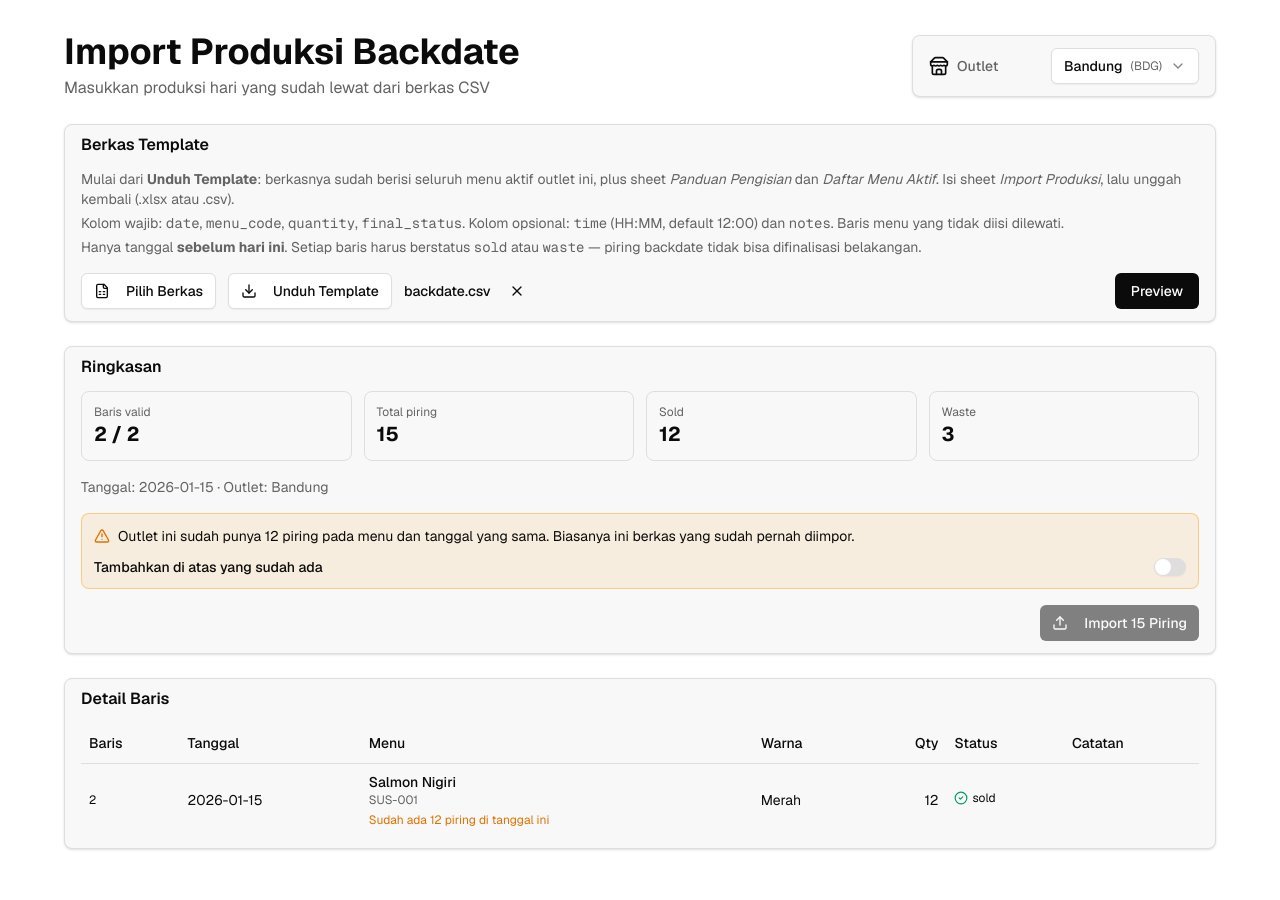
ProductionImportAdmin › holds a colliding file until the operator allows duplicates
Earlier steps of the test are not shown.
Check: the button "Import 15 Piring" is disabled, box [1040,605,1199,641]
Check: the text "sudah punya 12 piring" is shown, box [118,526,854,546]
Click the switch: (1170, 567) [1154,558,1186,576]
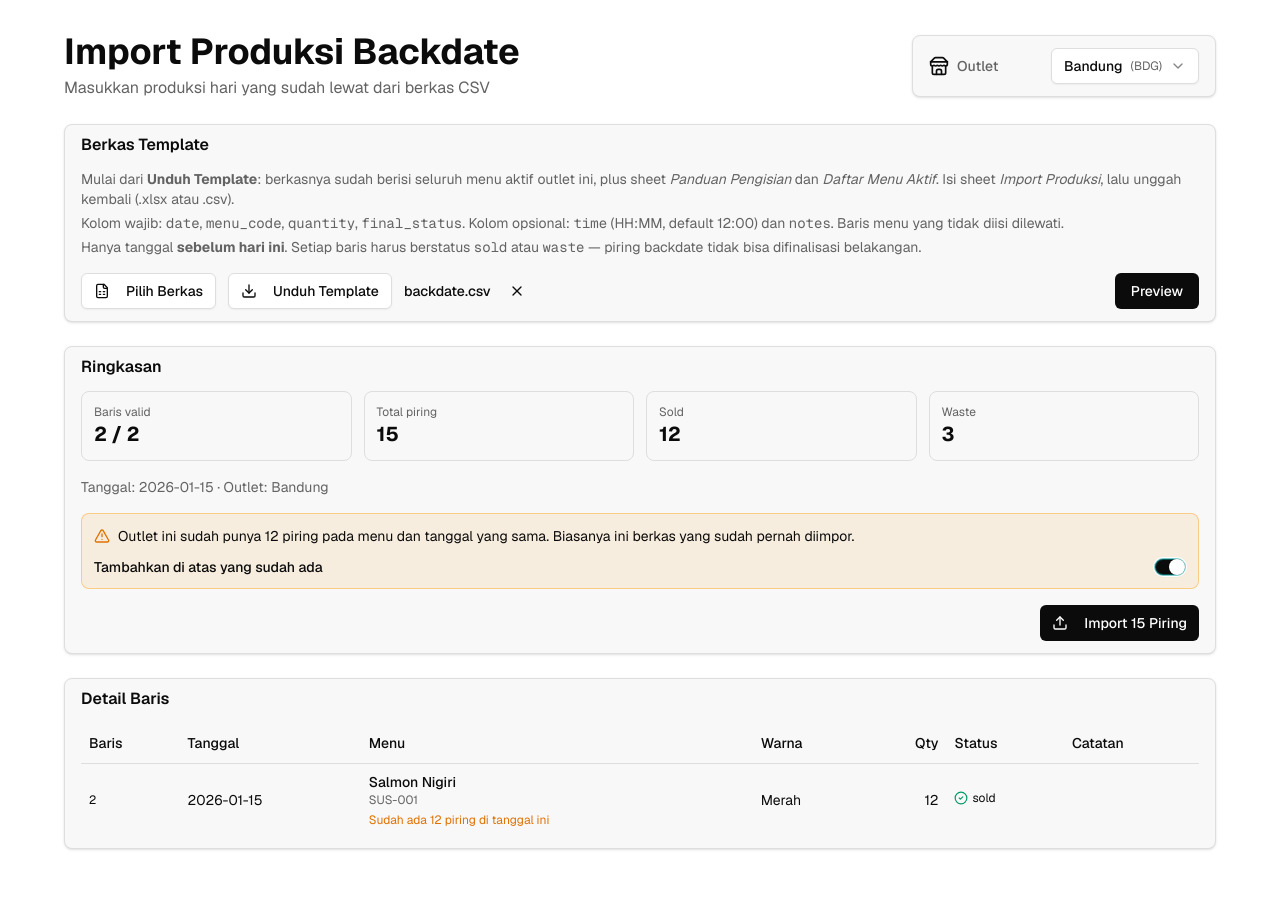
Check: the button "Import 15 Piring" is enabled, box [1040,605,1199,641]
